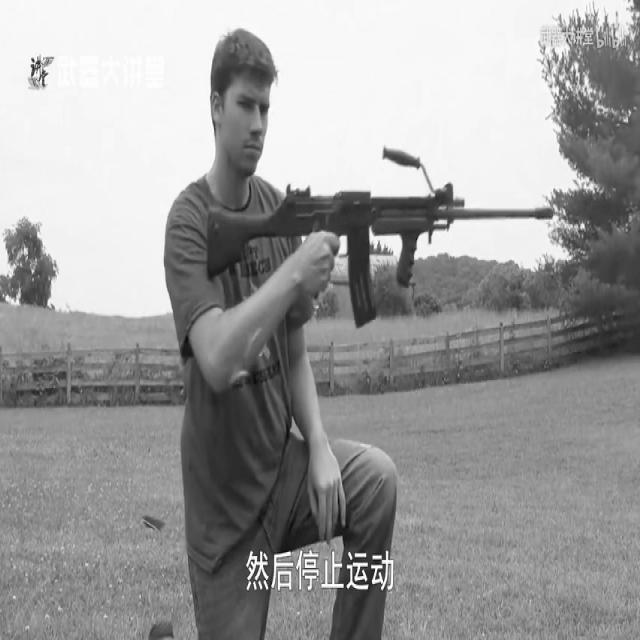Sniper: (156, 81, 579, 429)
